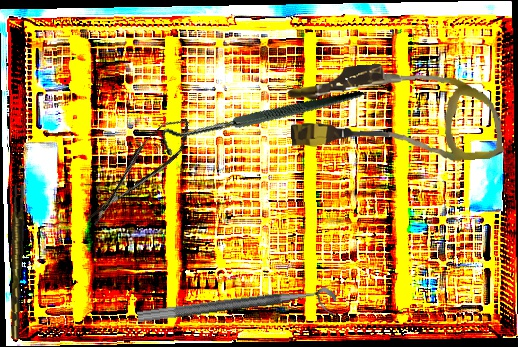Cannula: (286, 55, 504, 173)
Fixation Ring: (136, 285, 339, 340)
Hook Surgical: (157, 45, 365, 200)
Micro Scissor: (76, 109, 201, 232)
Tissue Forceps: (3, 184, 30, 340)
